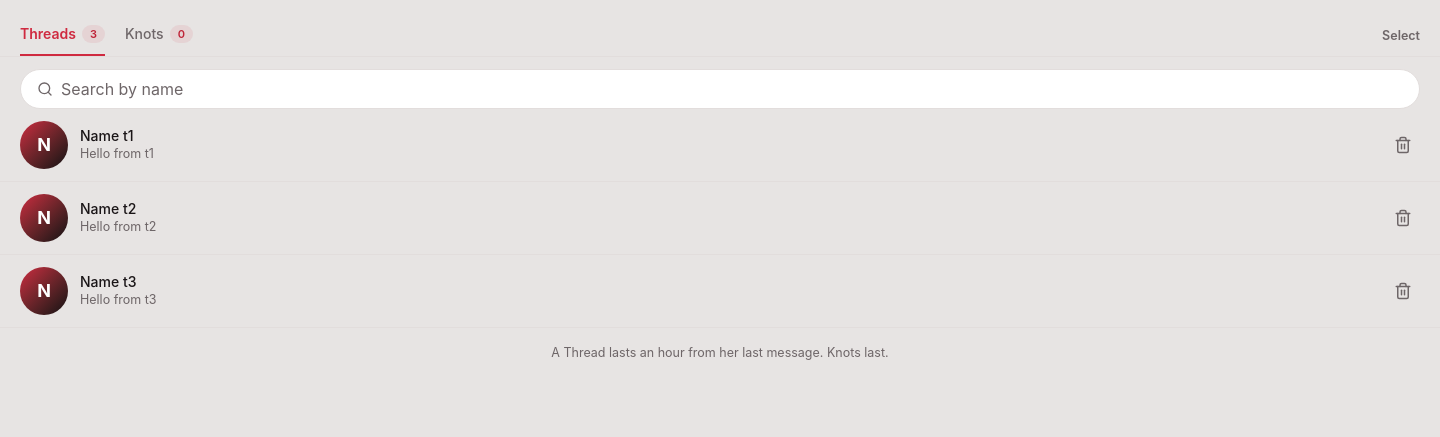
select mode › clears exactly the chats chosen, in one request, and leaves select mode
This screenshot has width=1440, height=437.
Click the button "Select".
click(1401, 41)  # box [1382,27,1420,56]
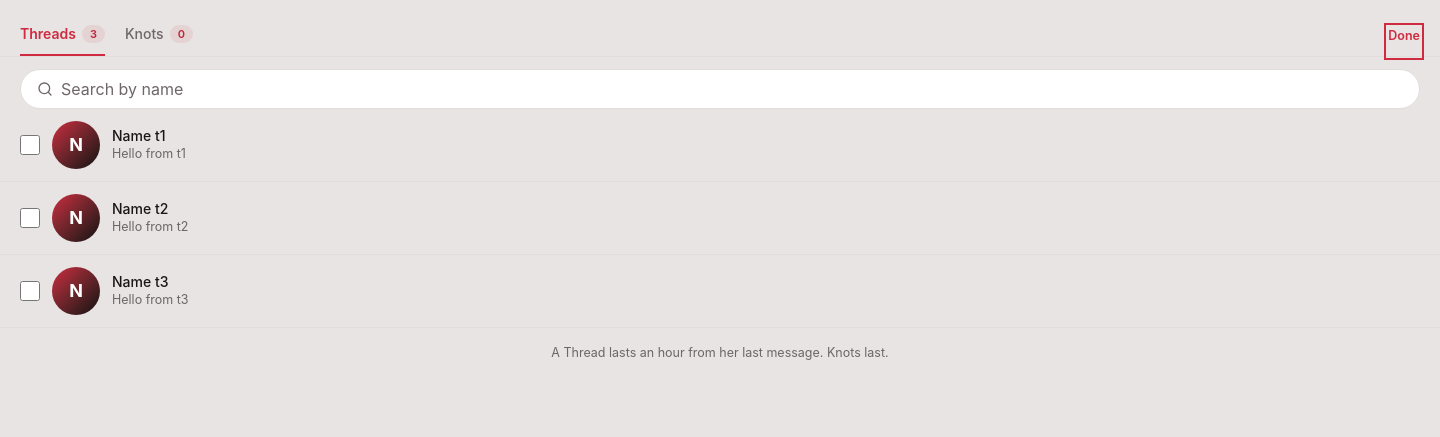
Click the checkbox labelled "N Name t1 Hello from t1".
click(30, 145)  # box [20,135,40,155]
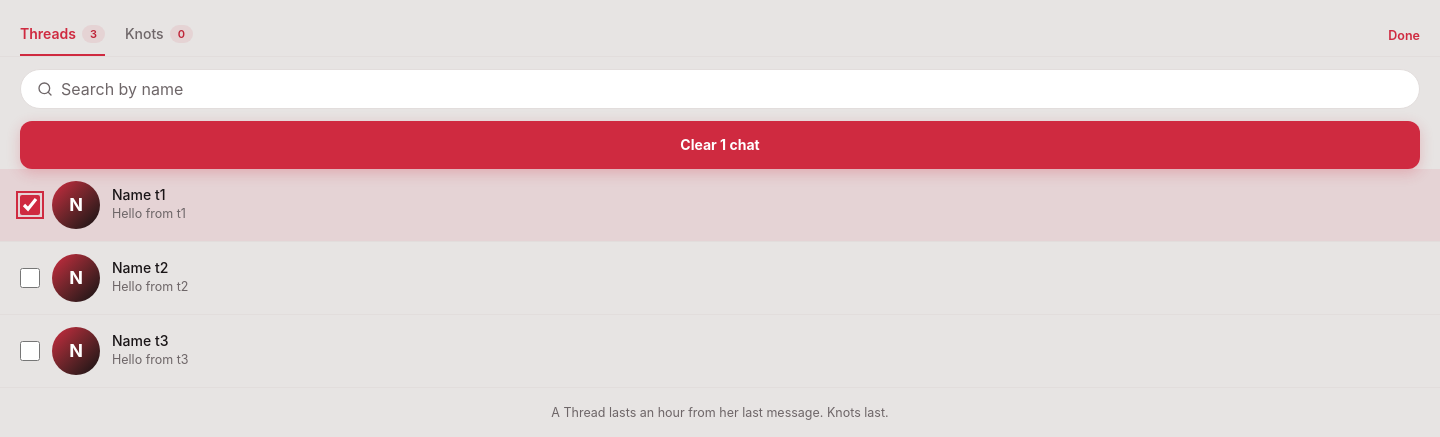
Click the checkbox labelled "N Name t3 Hello from t3".
click(30, 351)  # box [20,341,40,361]
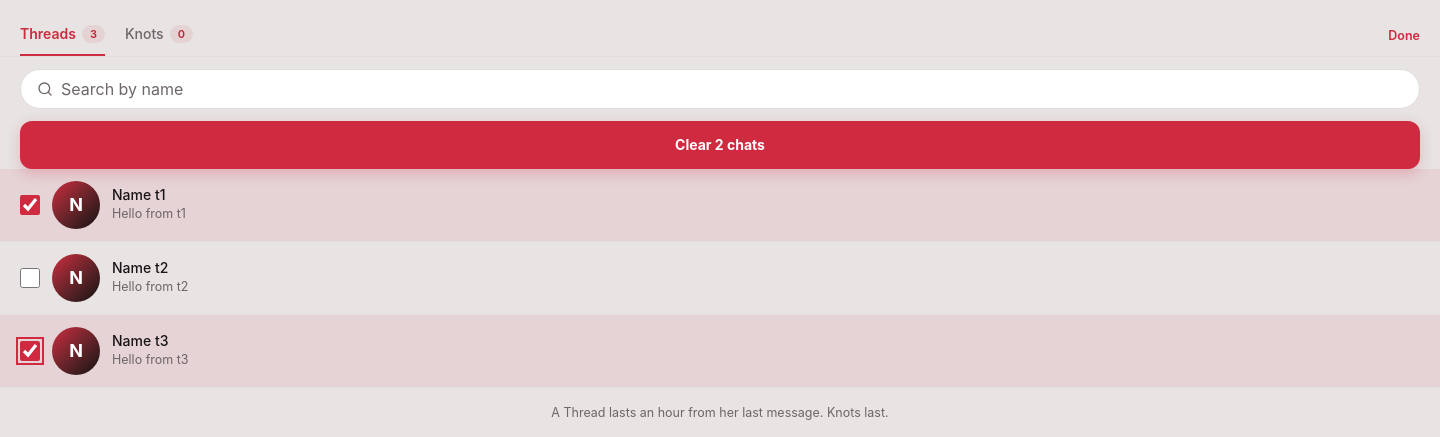
Click the button "Clear 2 chats".
click(720, 145)  # box [20,121,1420,169]
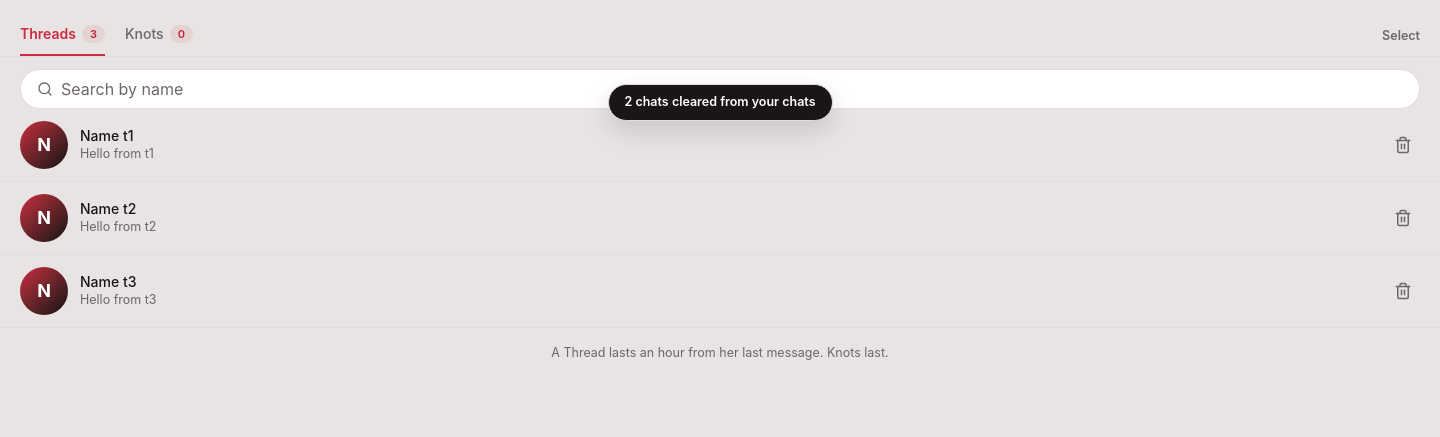
expect the checkbox is gone: met
